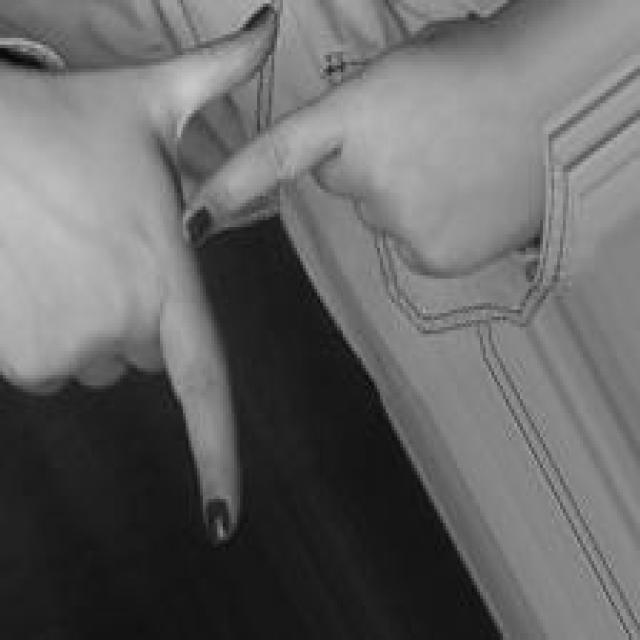F: (1, 5, 483, 548)
